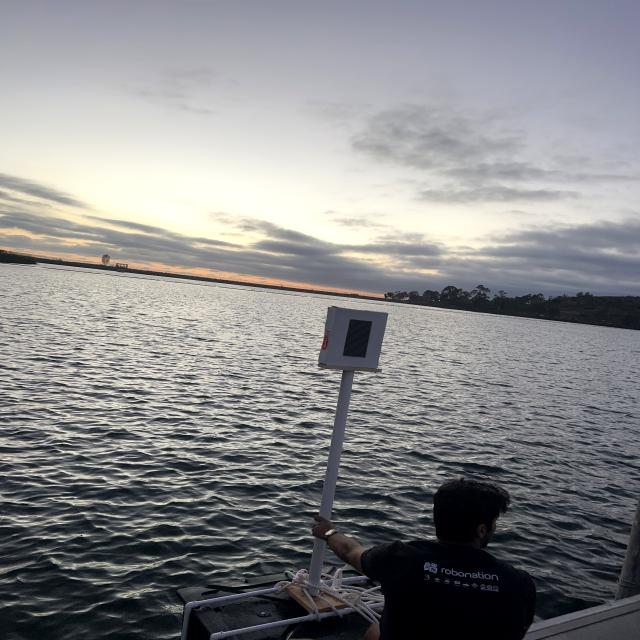led: (337, 308, 381, 370)
